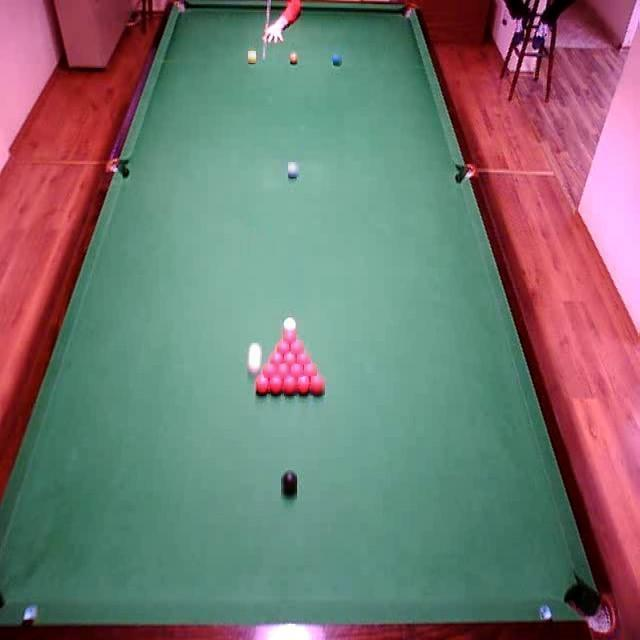Ball: (281, 470, 297, 499), (247, 343, 262, 372), (255, 374, 269, 394), (311, 376, 325, 395), (270, 374, 283, 394), (284, 376, 297, 396), (297, 374, 310, 394), (276, 363, 291, 379), (283, 317, 296, 332), (284, 351, 297, 366), (297, 351, 311, 364), (264, 363, 276, 378), (304, 363, 317, 376), (291, 341, 304, 354), (283, 331, 296, 344), (291, 363, 303, 377), (288, 162, 299, 177), (270, 352, 283, 364), (277, 341, 289, 354), (289, 52, 298, 65), (333, 52, 342, 65), (248, 51, 256, 63)
